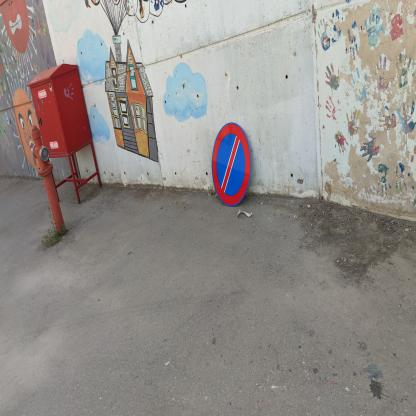No Waiting: (214, 122, 252, 208)
